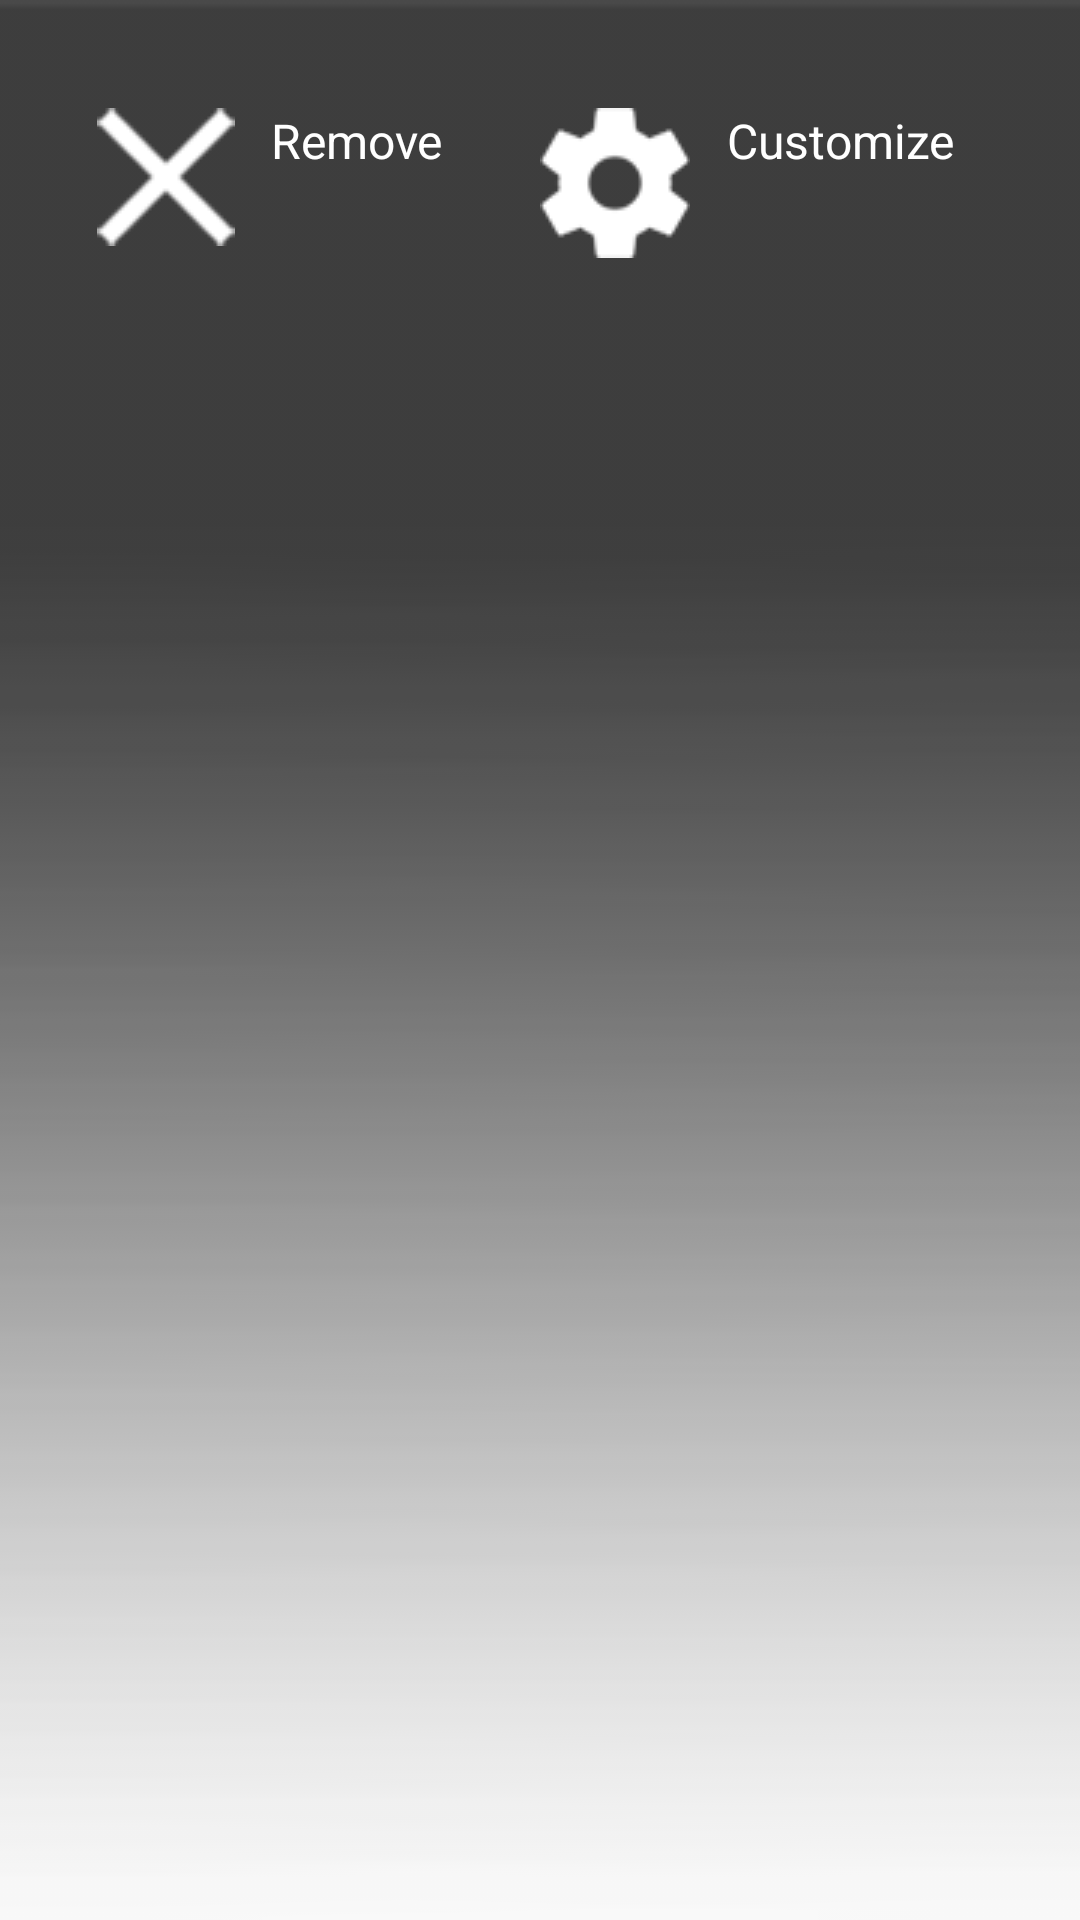

Where icons sit on this 1080px×1920px app screen, as (x1=x1, y1=y1, x2=x2, y2=y2):
shopping wizard close: (x1=97, y1=108, x2=235, y2=246)
shopping wizard settings: (x1=540, y1=108, x2=690, y2=258)
